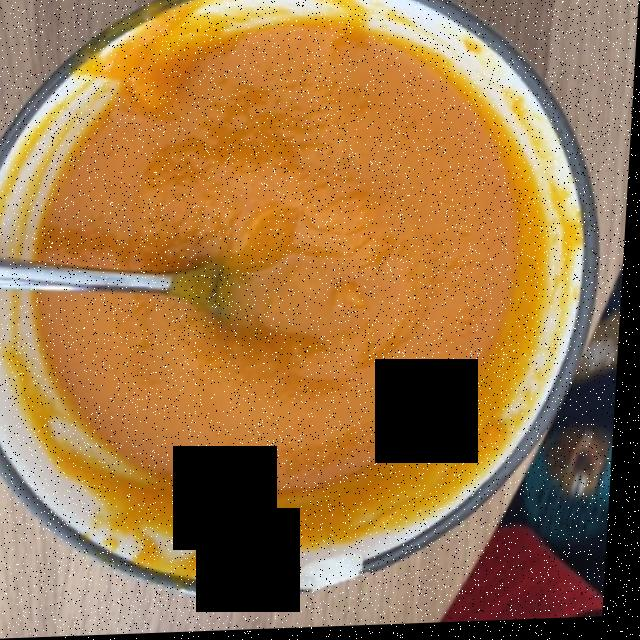soup-pumpkin: (11, 15, 557, 552)
